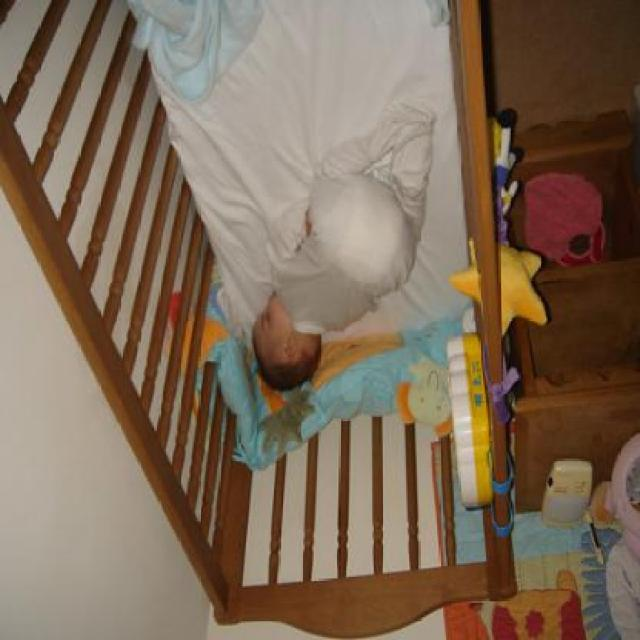child: (250, 110, 438, 393)
